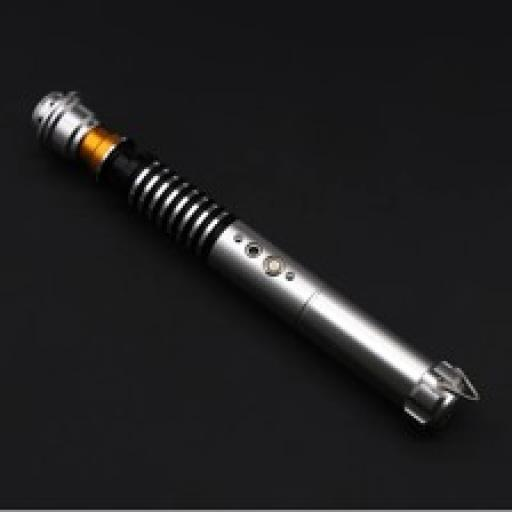lightsaber: (32, 89, 482, 436)
